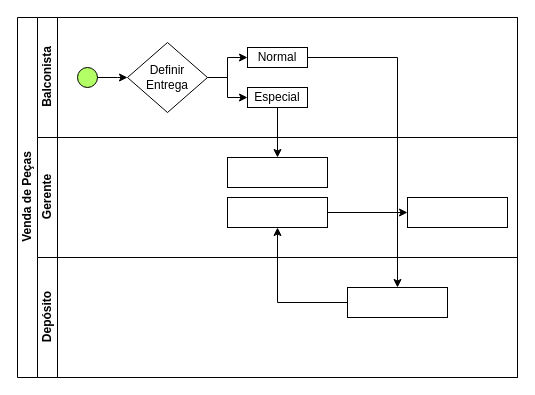
This 535x395 diagram has some shape labels left out. Here are the shapes that lost their labels. From the top down, the centre of each, then its label:
At point 277,172: "Solicita Cotação das peças".
At point 277,212: "Garantia Extra".
At point 457,212: "Executa a Operação".
At point 397,302: "Checklist de Garantia".
